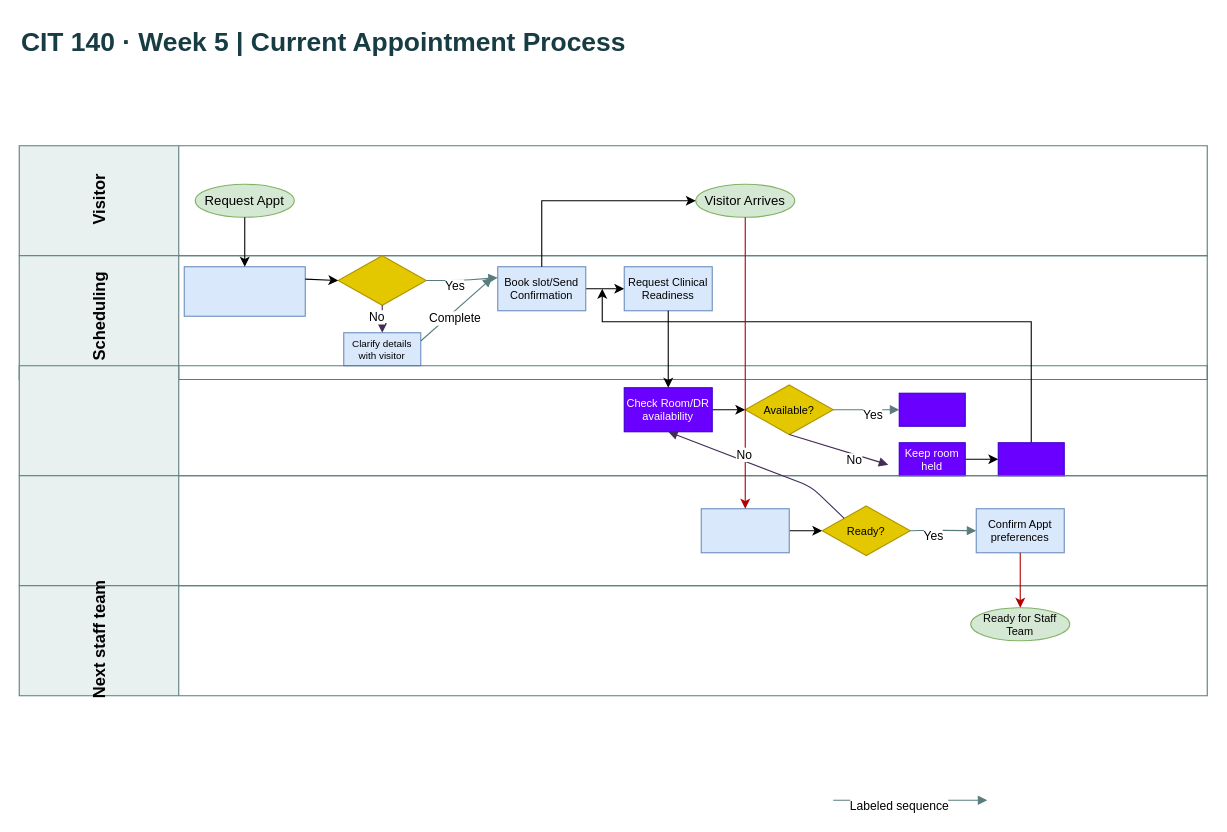
Image size: 1227x832. Some labels were removed from this diagram. Here are the shapes that lost their labels. From the top down, the box of each, then its label:
(183, 266, 305, 316): Log time/preferences
(337, 255, 426, 305): Details complete?
(18, 365, 1207, 476): Clinical Operations
(898, 392, 965, 426): Record ready
(997, 442, 1064, 476): Review Capacity
(18, 475, 1207, 586): Intake
(700, 508, 789, 553): Retrive Appt/ Validate Status
